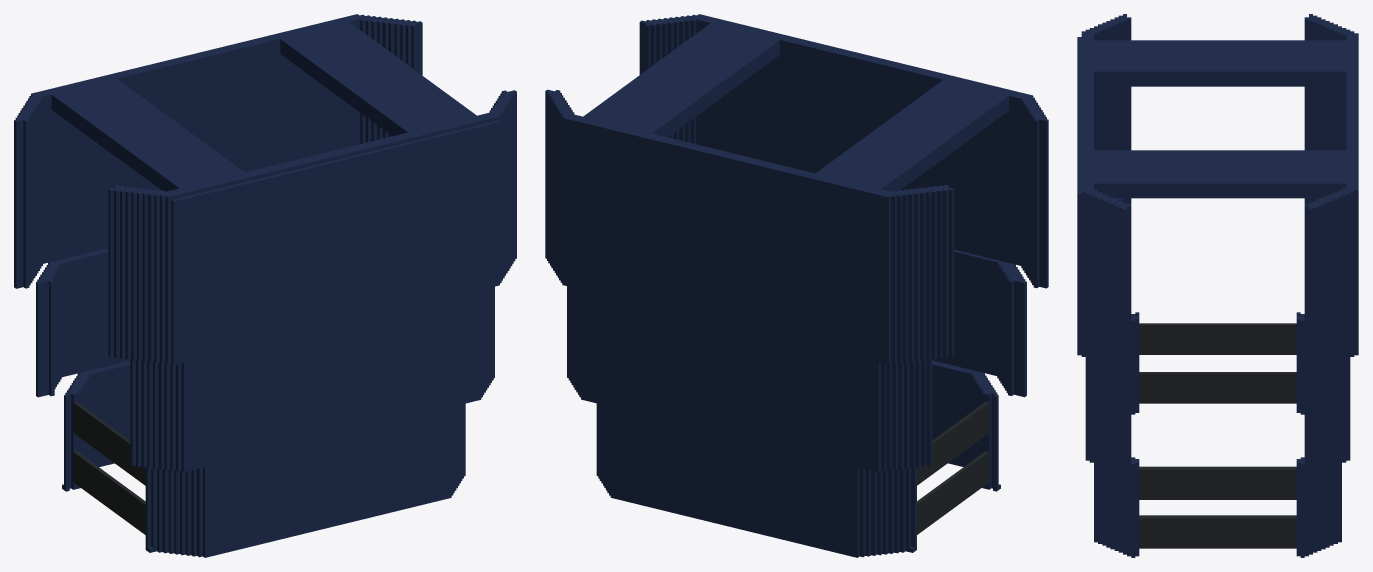
File: stab_vest_worn.glb
3 renders of one model, left to right at view 1: azimuth 30°, elevation 25°; view 2: azimuth 150°, elevation 25°; view 3: azimuth 270°, elevation 25°, orthographic.
Visible parts, largest first — view 1: shell:compound; view 2: shell:compound; view 3: shell:compound.
Part boxes in pixels (<box>): shell:compound: <box>14,14,516,557</box>; shell:compound: <box>545,14,1048,557</box>; shell:compound: <box>1077,14,1358,557</box>.
Size of the model in its own units: 0.448 by 0.396 by 0.272.
